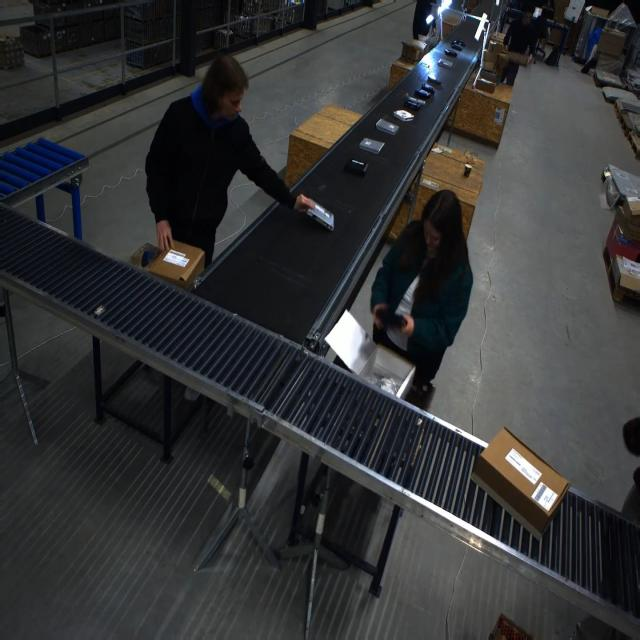box: (469, 425, 570, 537), (329, 307, 413, 403), (127, 239, 206, 292)
product: (304, 199, 333, 231), (375, 118, 399, 135), (358, 138, 383, 154), (344, 159, 367, 176), (427, 72, 445, 92), (414, 87, 431, 99), (407, 98, 423, 108), (437, 58, 452, 68), (450, 41, 464, 51), (421, 83, 434, 93), (444, 48, 457, 57)
